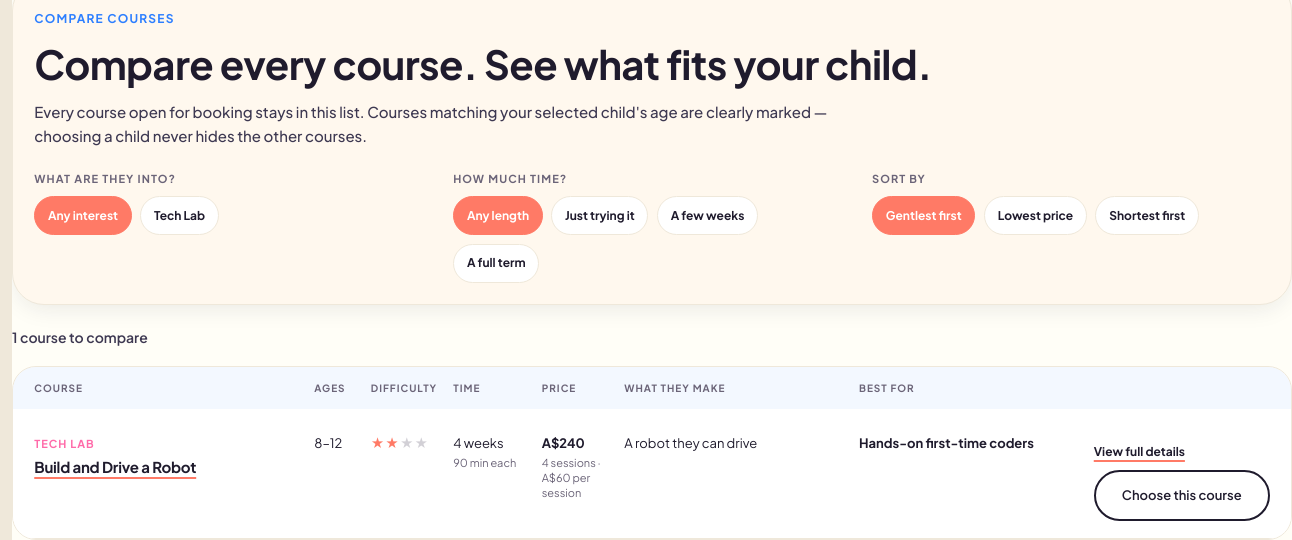
Test case: CoursesPage pay-now CTA › explains when no class is open for online purchase
The image size is (1292, 540).
(page scrolled)
Click the button "Choose this course" at (1182, 495), box [1094,470,1270,521]
(page scrolled)
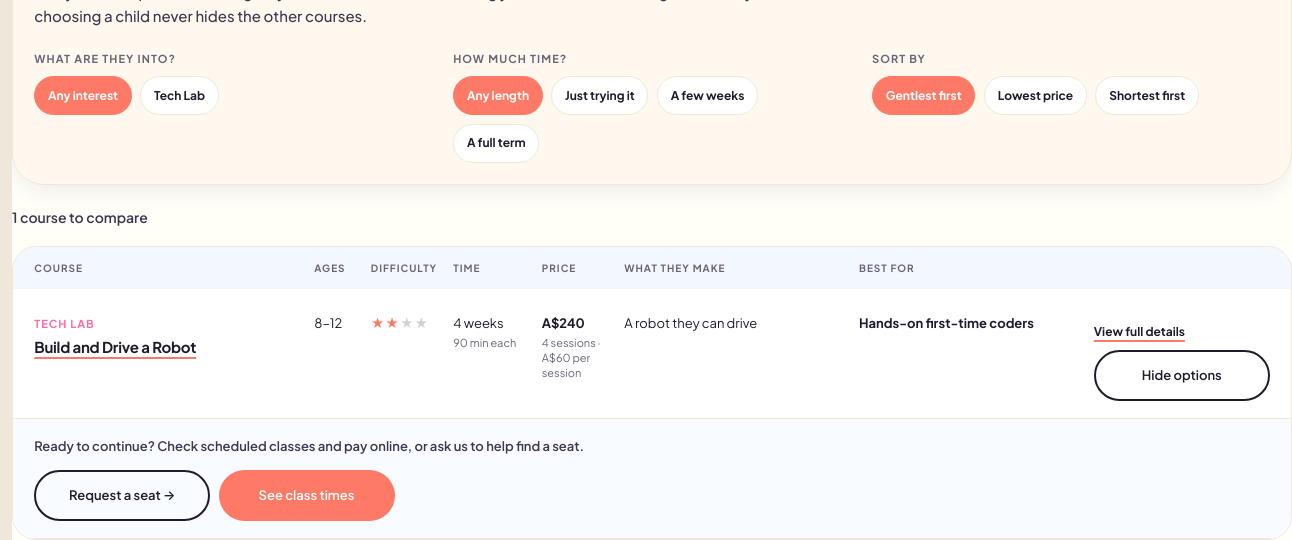
Click the button "See class times" at (306, 496), box [218,470,394,521]
(page scrolled)
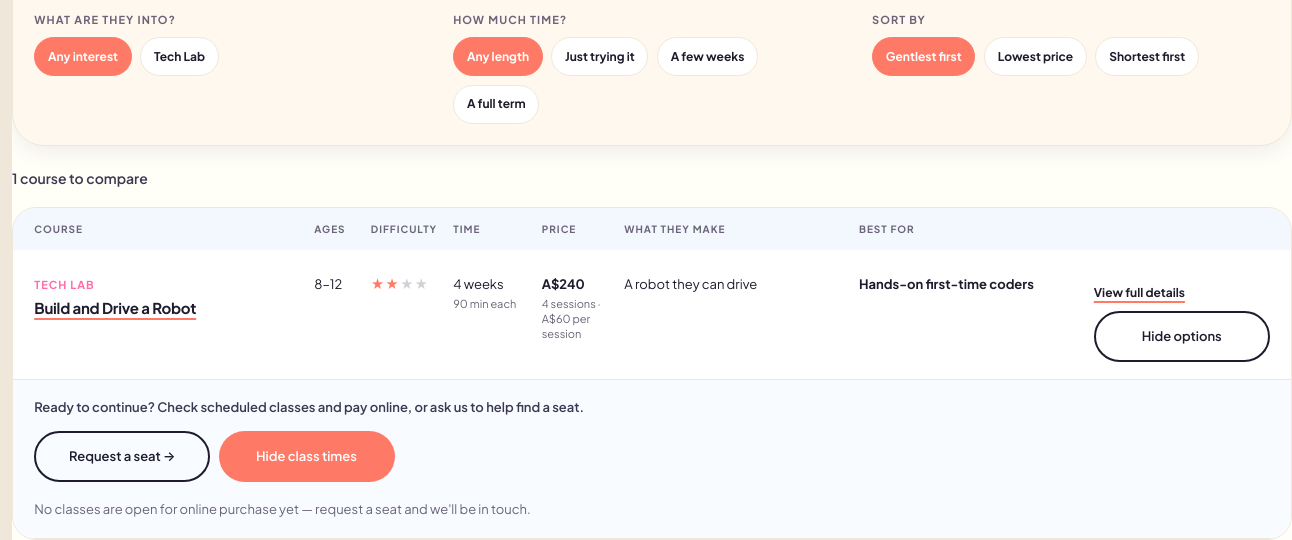
Expected: the text "No classes are open for online purchase yet" is shown, [34,501,531,517]
